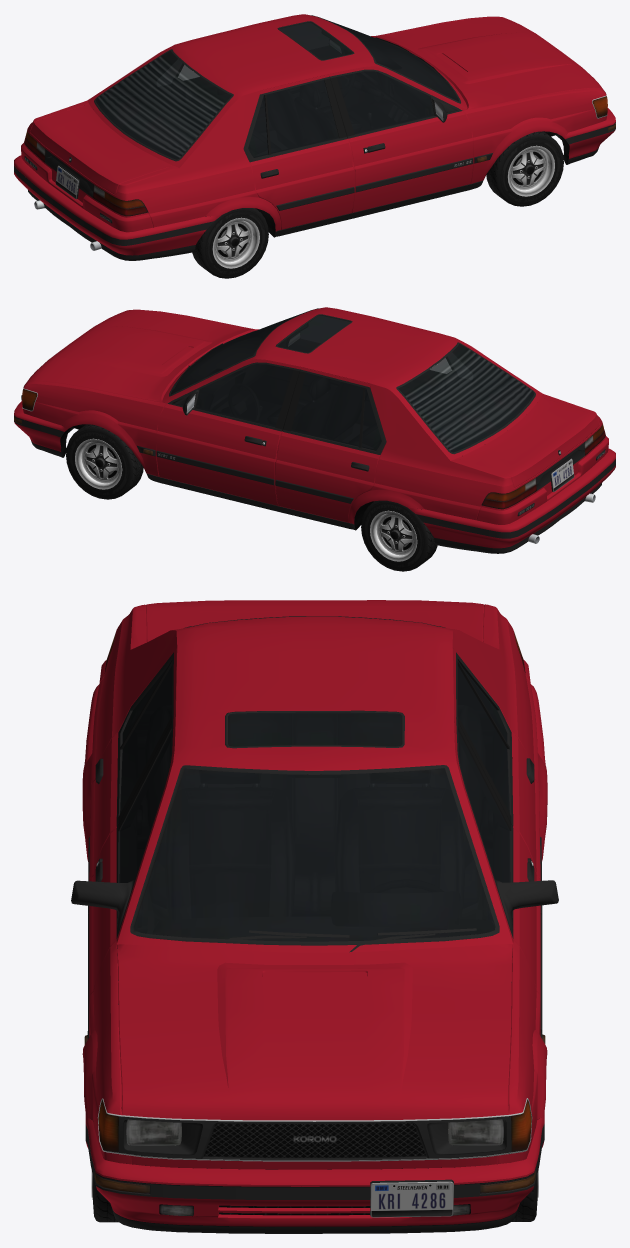
Rendered from sedan-kiri86.glb.
3 views of the same model, one above another, from view 1: azimuth 30°, elevation 25°; view 2: azimuth 150°, elevation 25°; view 3: azimuth 270°, elevation 25° (orthographic). The views are drawn at different scales.
Parts seen in each view (by area): view 1: kiri86_Body_kiri86_Bodymat_0, kiri86_Interior_UCB_Interior_Trim_0, kiri86_Hood_kiri86_Bodymat_0, kiri86_Bottom_UCB_BOTTOM_GT_0, kiri86_Rear_window_UCB_Lights_and_Glass_Transperent_0, kiri86_Body_Glass_UCB_Lights_and_Glass_Transperent_0, kiri86_Trunk_door_kiri86_Bodymat_0, kiri86_Wheel_FR_RB1c_Tire_1k_0, kiri86_Glass_Passenger_UCB_Lights_and_Glass_Transperent_0, kiri86_Wheel_RR_RB1c_Tire_1k_0, kiri86_Bumper_rear_kiri86_Bodymat_0, kiri86_bumper_rear_inner_UCB_BOTTOM_GT_0 (+7 smaller); view 2: kiri86_Body_kiri86_Bodymat_0, kiri86_Interior_UCB_Interior_Trim_0, kiri86_Hood_kiri86_Bodymat_0, kiri86_Bottom_UCB_BOTTOM_GT_0, kiri86_Rear_window_UCB_Lights_and_Glass_Transperent_0, kiri86_Body_Glass_UCB_Lights_and_Glass_Transperent_0, kiri86_Trunk_door_kiri86_Bodymat_0, kiri86_Wheel_FL_RB1c_Tire_1k_0, kiri86_Glass_Driver_UCB_Lights_and_Glass_Transperent_0, kiri86_Wheel_RL_RB1c_Tire_1k_0, kiri86_Bumper_rear_kiri86_Bodymat_0, kiri86_bumper_rear_inner_UCB_BOTTOM_GT_0 (+8 smaller); view 3: kiri86_Body_kiri86_Bodymat_0, kiri86_Interior_UCB_Interior_Trim_0, kiri86_Hood_kiri86_Bodymat_0, kiri86_Windshield_UCB_Lights_and_Glass_Transperent_0, kiri86_Bottom_UCB_BOTTOM_GT_0, kiri86_Bumper_front_kiri86_Bodymat_0, kiri86_Body_Glass_UCB_Lights_and_Glass_Transperent_0, kiri86_Bumper_Front_Inner_UCB_BOTTOM_GT_0, kiri86_Trunk_door_kiri86_Bodymat_0, kiri86_Headlights_Glass_UCB_Lights_and_Glass_Transperent_0, kiri86_Glass_Driver_UCB_Lights_and_Glass_Transperent_0, kiri86_Glass_Passenger_UCB_Lights_and_Glass_Transperent_0 (+4 smaller).
Boxes of the visible parts, box(x1,y1,x2,y2) form: kiri86_Body_kiri86_Bodymat_0: box(21, 14, 606, 232); kiri86_Interior_UCB_Interior_Trim_0: box(96, 23, 458, 158); kiri86_Hood_kiri86_Bodymat_0: box(371, 17, 603, 109); kiri86_Bottom_UCB_BOTTOM_GT_0: box(24, 15, 607, 250); kiri86_Rear_window_UCB_Lights_and_Glass_Transperent_0: box(95, 50, 231, 159); kiri86_Body_Glass_UCB_Lights_and_Glass_Transperent_0: box(157, 22, 352, 157); kiri86_Trunk_door_kiri86_Bodymat_0: box(30, 104, 172, 194); kiri86_Wheel_FR_RB1c_Tire_1k_0: box(486, 131, 563, 206); kiri86_Glass_Passenger_UCB_Lights_and_Glass_Transperent_0: box(336, 71, 434, 134); kiri86_Wheel_RR_RB1c_Tire_1k_0: box(192, 208, 268, 278); kiri86_Bumper_rear_kiri86_Bodymat_0: box(14, 155, 221, 255); kiri86_bumper_rear_inner_UCB_BOTTOM_GT_0: box(14, 166, 213, 260); kiri86_Body_kiri86_Bodymat_0: box(23, 307, 608, 524); kiri86_Interior_UCB_Interior_Trim_0: box(171, 316, 533, 451); kiri86_Hood_kiri86_Bodymat_0: box(26, 310, 258, 402); kiri86_Bottom_UCB_BOTTOM_GT_0: box(22, 308, 605, 543); kiri86_Rear_window_UCB_Lights_and_Glass_Transperent_0: box(398, 344, 534, 452); kiri86_Body_Glass_UCB_Lights_and_Glass_Transperent_0: box(277, 315, 472, 450); kiri86_Trunk_door_kiri86_Bodymat_0: box(457, 397, 599, 487); kiri86_Wheel_FL_RB1c_Tire_1k_0: box(66, 424, 143, 499); kiri86_Glass_Driver_UCB_Lights_and_Glass_Transperent_0: box(195, 364, 293, 427); kiri86_Wheel_RL_RB1c_Tire_1k_0: box(361, 500, 437, 571); kiri86_Bumper_rear_kiri86_Bodymat_0: box(407, 448, 615, 548); kiri86_bumper_rear_inner_UCB_BOTTOM_GT_0: box(416, 459, 615, 553); kiri86_Body_kiri86_Bodymat_0: box(82, 604, 547, 1169); kiri86_Interior_UCB_Interior_Trim_0: box(121, 667, 508, 940); kiri86_Hood_kiri86_Bodymat_0: box(117, 944, 512, 1120); kiri86_Windshield_UCB_Lights_and_Glass_Transperent_0: box(134, 768, 495, 941); kiri86_Bottom_UCB_BOTTOM_GT_0: box(71, 616, 558, 1169); kiri86_Bumper_front_kiri86_Bodymat_0: box(85, 1113, 544, 1226); kiri86_Body_Glass_UCB_Lights_and_Glass_Transperent_0: box(120, 665, 509, 813); kiri86_Bumper_Front_Inner_UCB_BOTTOM_GT_0: box(85, 1118, 544, 1233); kiri86_Trunk_door_kiri86_Bodymat_0: box(146, 600, 483, 642); kiri86_Headlights_Glass_UCB_Lights_and_Glass_Transperent_0: box(98, 1100, 531, 1152); kiri86_Glass_Driver_UCB_Lights_and_Glass_Transperent_0: box(458, 730, 510, 882); kiri86_Glass_Passenger_UCB_Lights_and_Glass_Transperent_0: box(119, 730, 171, 882).
Size of the model in its own units: 4.31 by 1.32 by 1.76.
8 materials, 7 textured.
